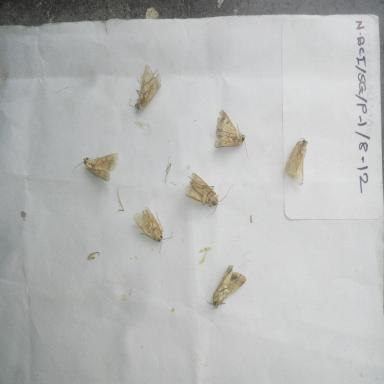abw: (203, 258, 251, 318), (181, 169, 235, 221), (128, 203, 177, 258), (211, 106, 253, 164), (70, 148, 122, 189), (281, 134, 317, 190), (131, 62, 165, 118)
